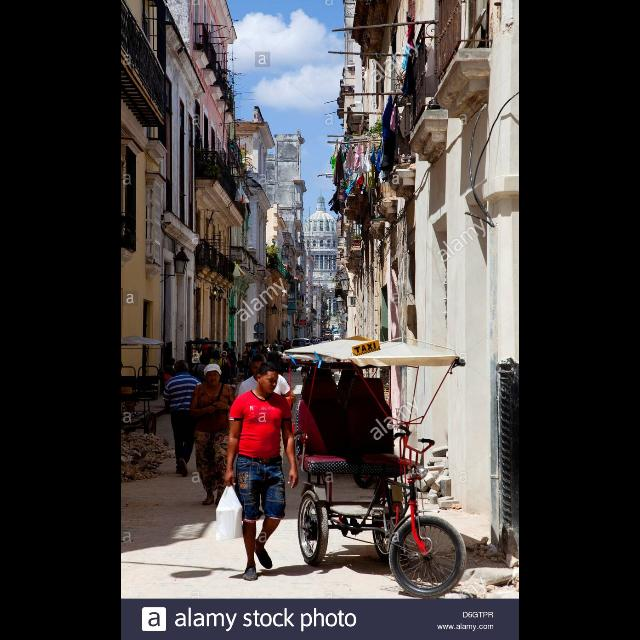head: (257, 362, 279, 393), (247, 341, 263, 383), (250, 354, 268, 378), (205, 368, 221, 386), (175, 360, 189, 374), (200, 354, 212, 366), (201, 354, 211, 364), (213, 349, 221, 358), (258, 342, 264, 350), (272, 344, 278, 352), (221, 352, 227, 358), (223, 343, 229, 349), (204, 337, 210, 343), (208, 347, 214, 353), (246, 346, 252, 352), (232, 341, 236, 347), (192, 344, 196, 348), (268, 344, 272, 348), (304, 352, 308, 356)
person: (223, 361, 301, 583), (237, 353, 300, 523), (188, 363, 240, 507), (162, 358, 204, 479), (191, 353, 217, 421), (208, 347, 232, 403), (190, 354, 214, 408), (264, 342, 288, 393), (202, 346, 220, 390), (216, 351, 234, 394), (198, 336, 216, 379), (219, 341, 237, 383), (186, 341, 204, 383), (252, 340, 270, 378), (247, 341, 263, 383), (242, 344, 255, 384), (230, 341, 242, 382), (298, 351, 310, 384), (264, 342, 276, 373)
